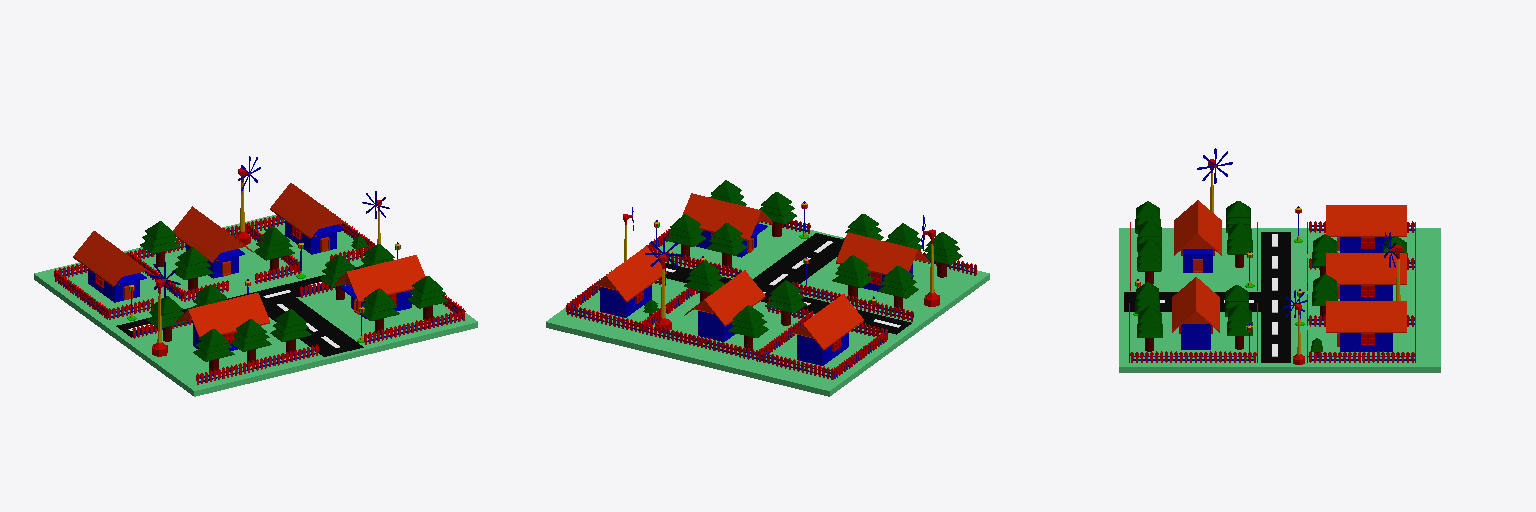
File: city_enironment.obj
3 renders of one model, left to right at view 1: azimuth 30°, elevation 25°; view 2: azimuth 150°, elevation 25°; view 3: azimuth 270°, elevation 25°, orthographic.
Visible parts, largest first — view 1: Floor_Floor, Hometwon_home_top, Trees_1_trees_top, Border1_border1, Road_Road, Trees_2_trees_top, Hometwon_Home, Trees_3_trees_top, Border2_border1, Border3_border1, FAN1_Home, FAN1_Home_windows; view 2: Floor_Floor, Hometwon_home_top, Border1_border1, Trees_1_trees_top, Road_Road, Hometwon_Home, Trees_2_trees_top, Trees_3_trees_top, Border3_border1, Border2_border1, Border1_Material.001, FAN1_Home_windows; view 3: Floor_Floor, Hometwon_home_top, Road_Road, Hometwon_Home, Trees_1_trees_top, Trees_2_trees_top, Trees_3_trees_top, Border1_border1, Border2_border1, Hometwon_Home_windows, FAN1_Home.
Part boxes in pixels (x1,y1,x2,y2): Floor_Floor: (34, 215, 477, 396); Hometwon_home_top: (73, 183, 425, 337); Trees_1_trees_top: (147, 285, 311, 361); Border1_border1: (54, 205, 374, 319); Road_Road: (116, 267, 363, 356); Trees_2_trees_top: (320, 244, 447, 320); Hometwon_Home: (88, 221, 411, 350); Trees_3_trees_top: (140, 221, 294, 279); Border2_border1: (300, 281, 465, 344); Border3_border1: (132, 320, 318, 384); FAN1_Home: (149, 156, 389, 297); FAN1_Home_windows: (152, 168, 381, 356); Floor_Floor: (546, 222, 989, 396); Hometwon_home_top: (585, 193, 929, 350); Border1_border1: (566, 267, 887, 379); Trees_1_trees_top: (832, 214, 962, 298); Road_Road: (659, 233, 911, 334); Hometwon_Home: (600, 223, 912, 365); Trees_2_trees_top: (665, 180, 796, 255); Trees_3_trees_top: (684, 261, 806, 337); Border3_border1: (792, 250, 976, 321); Border2_border1: (646, 220, 810, 277); Border1_Material.001: (569, 278, 885, 377); FAN1_Home_windows: (623, 214, 939, 331); Floor_Floor: (1119, 228, 1440, 372); Hometwon_home_top: (1172, 200, 1406, 346); Road_Road: (1124, 232, 1290, 362); Hometwon_Home: (1181, 237, 1392, 351); Trees_1_trees_top: (1135, 201, 1252, 271); Trees_2_trees_top: (1135, 282, 1252, 337); Trees_3_trees_top: (1312, 234, 1407, 305); Border1_border1: (1307, 221, 1415, 362); Border2_border1: (1129, 303, 1257, 362); Hometwon_Home_windows: (1179, 237, 1374, 344); FAN1_Home: (1197, 148, 1397, 317).
Bounding box in the file's own units: 22.05 × 7.04 × 21.62.